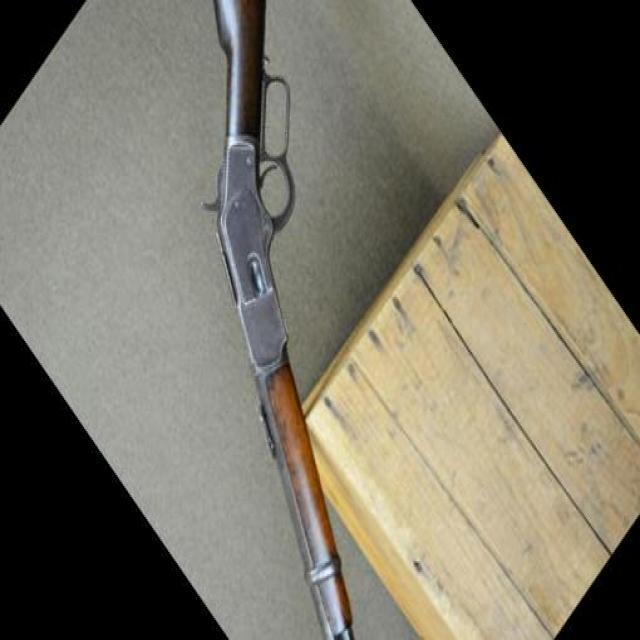weapon: (198, 2, 356, 640)
